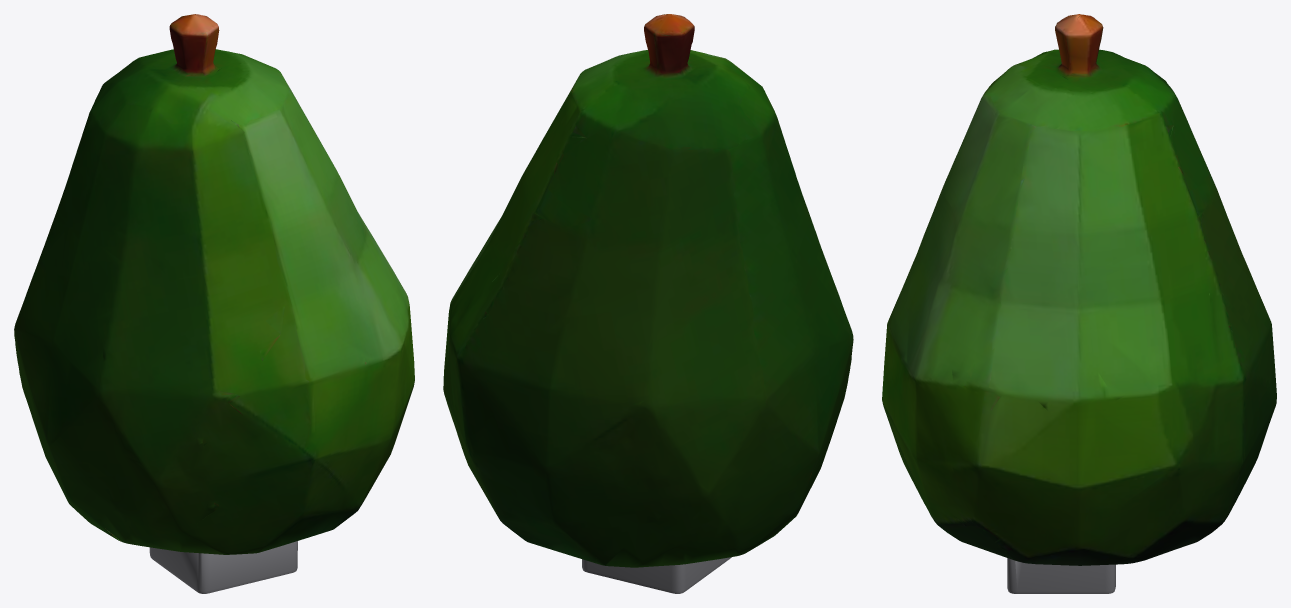
The model's file is avocado_alta.glb.
The picture shows the model from 3 angles, left to right: view 1: azimuth 30°, elevation 25°; view 2: azimuth 150°, elevation 25°; view 3: azimuth 270°, elevation 25°; orthographic projection. The views are drawn at different scales.
Visible parts, largest first — view 1: avocado; view 2: avocado; view 3: avocado.
Boxes of the visible parts, x1,y1,x2,y2 form: avocado: [14, 14, 414, 593]; avocado: [443, 14, 853, 593]; avocado: [882, 14, 1276, 593].
Size of the model in its own units: 1.27 by 2 by 1.31.
2 materials, 1 textured.
